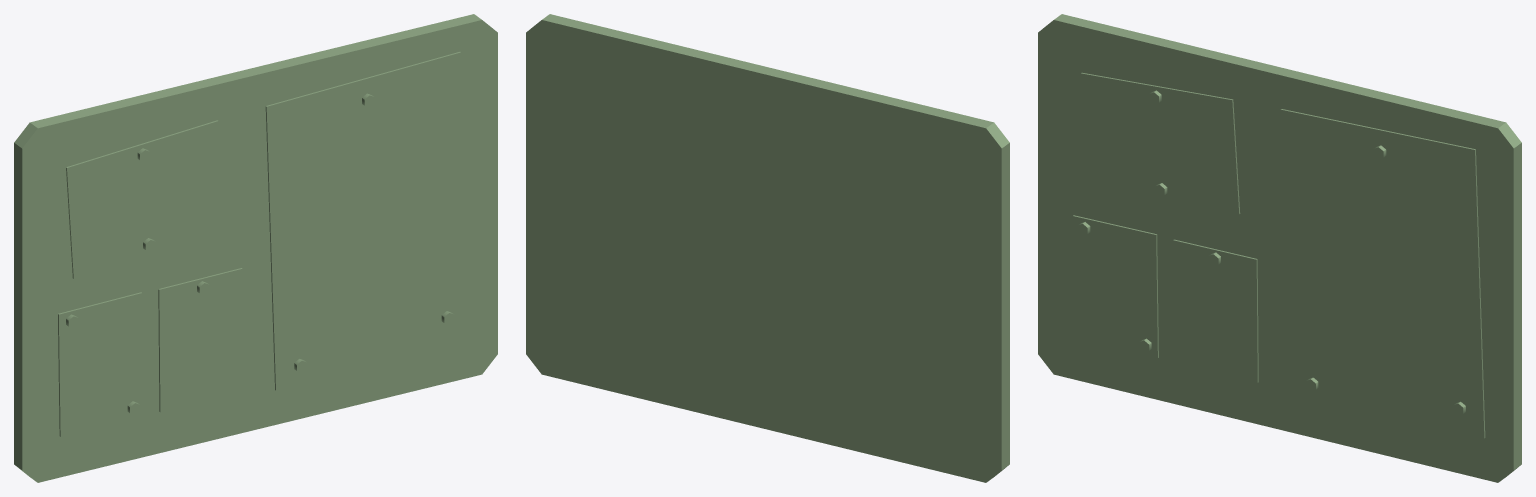
Rendered from Board_Magnetic_V1.fbx.
3 views of the same model, side by side, from view 1: azimuth 30°, elevation 25°; view 2: azimuth 150°, elevation 25°; view 3: azimuth 330°, elevation 25° (orthographic).
Parts seen in each view (by area): view 1: Board_Magnetic_V1; view 2: Board_Magnetic_V1; view 3: Board_Magnetic_V1.
Part boxes in pixels (bbox=[...]): Board_Magnetic_V1: bbox=[14, 14, 497, 482]; Board_Magnetic_V1: bbox=[526, 14, 1009, 482]; Board_Magnetic_V1: bbox=[1038, 14, 1521, 482].
Bounding box in the file's own units: 126 × 89.47 × 5.31.
